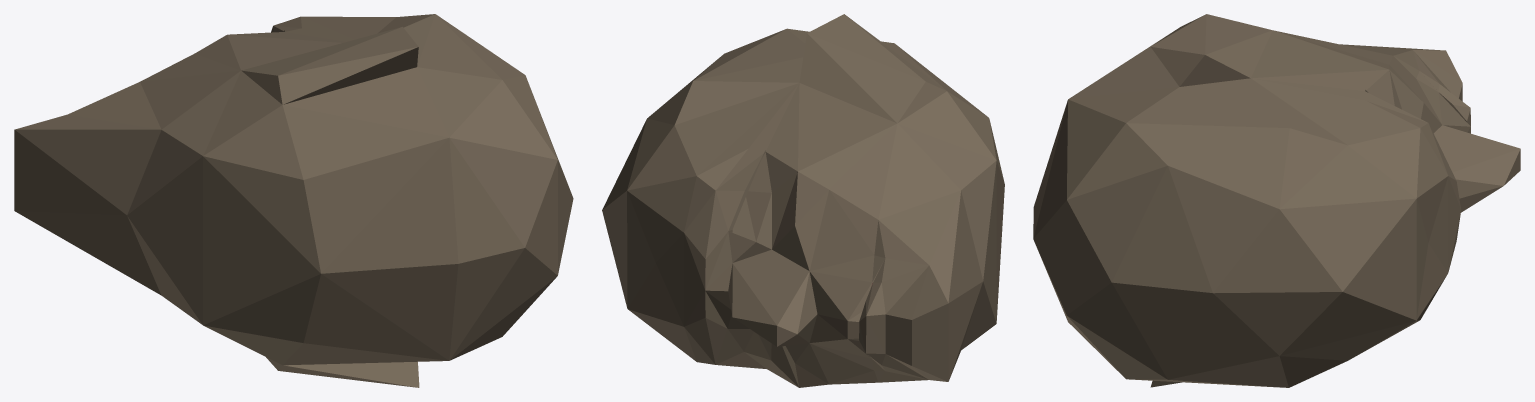
The model's file is HUM_HEAD_PSIONIC.OBJ.
3 renders of one model, left to right at view 1: azimuth 30°, elevation 25°; view 2: azimuth 150°, elevation 25°; view 3: azimuth 270°, elevation 25°, orthographic. The views are drawn at different scales.
Visible parts, largest first — view 1: HUM_HEAD_PSIONIC; view 2: HUM_HEAD_PSIONIC; view 3: HUM_HEAD_PSIONIC.
Boxes of the visible parts, x1,y1,x2,y2 form: HUM_HEAD_PSIONIC: (14,14,573,387); HUM_HEAD_PSIONIC: (602,14,1004,387); HUM_HEAD_PSIONIC: (1033,14,1520,387).
Bounding box in the file's own units: 0.2548 × 0.2011 × 0.261.
